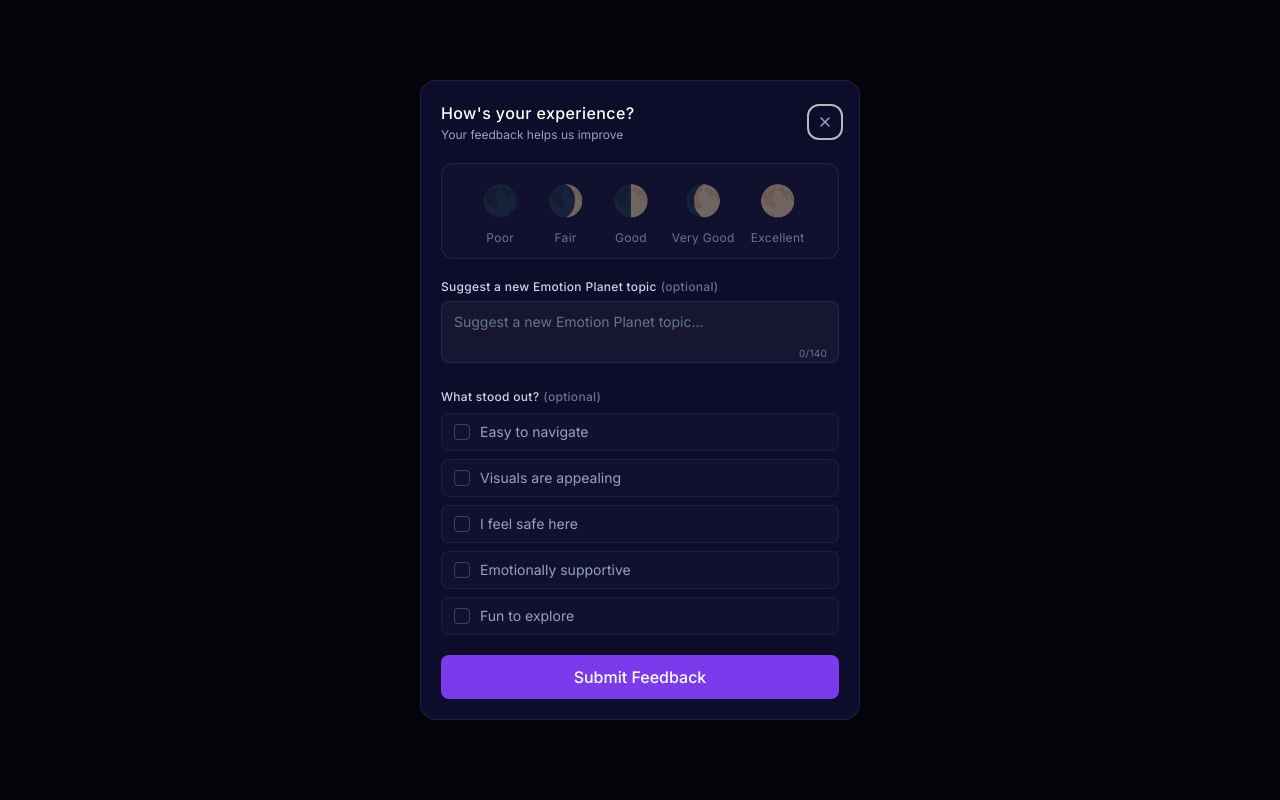
Test: EvaluationModal — Unit Tests (form states) › shows pending review confirmation when API returns moderation_status pending_review
# Select a rating
Click the radio button labelled "🌔". click: [703, 200]
box: [684, 182, 722, 218]
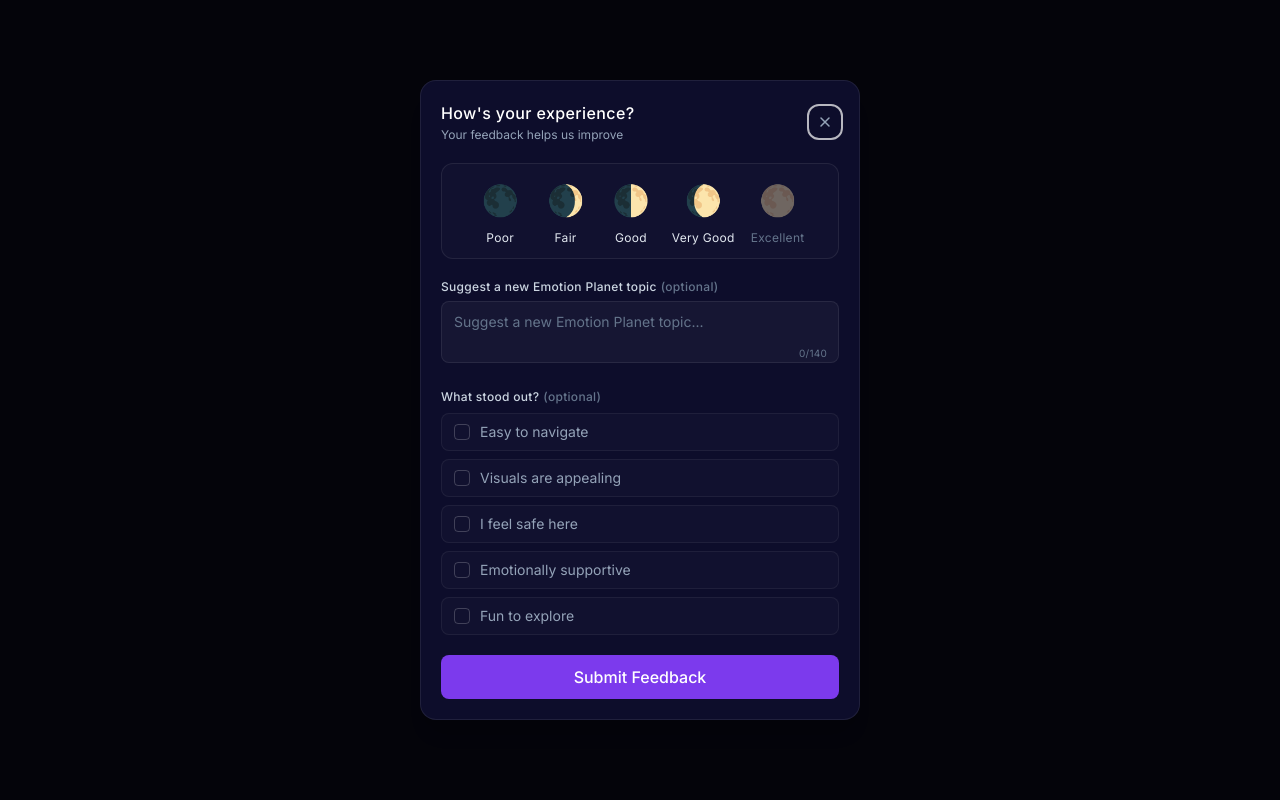
# Add a suggestion
Type "Nostalgia planet" into the text box with placeholder "Suggest a new Emotion Planet topic...". click: [640, 332]
box: [441, 301, 839, 363]
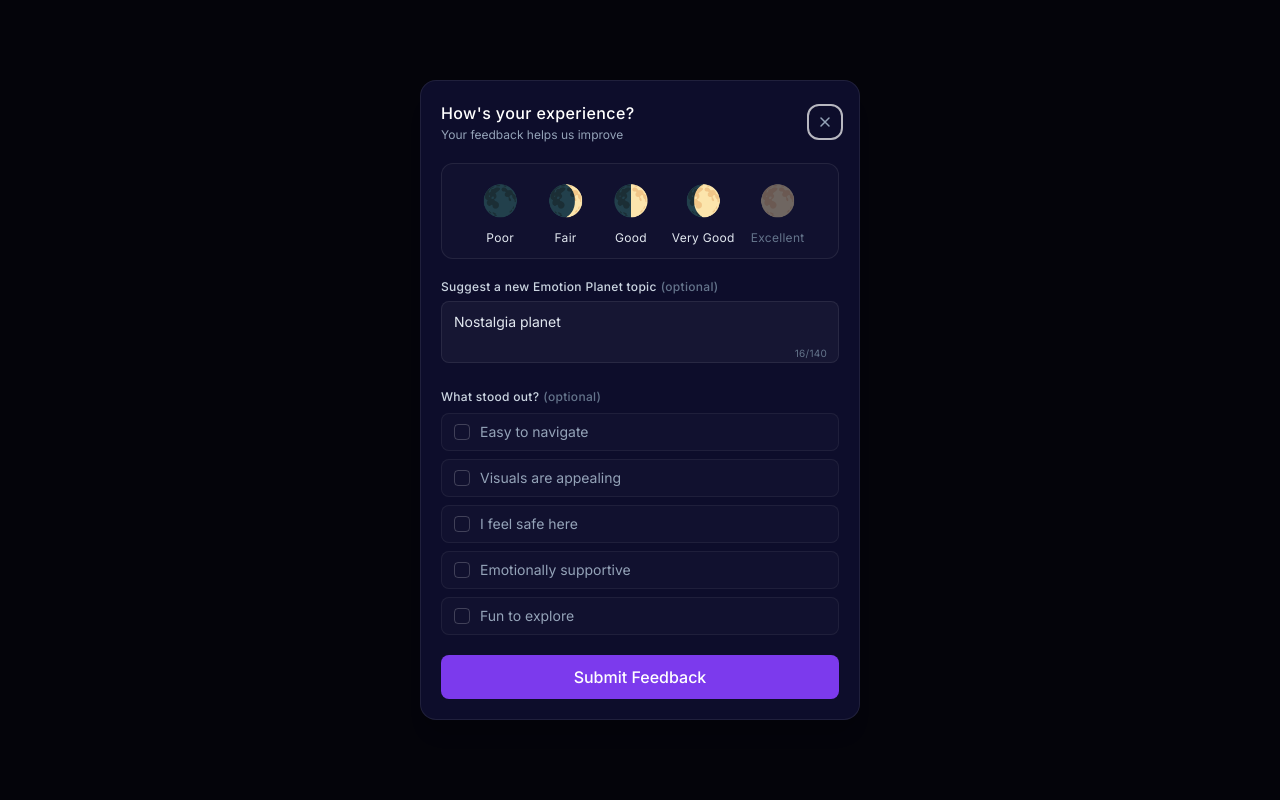
Click the button "Submit Feedback". click: [640, 677]
box: [441, 655, 839, 699]
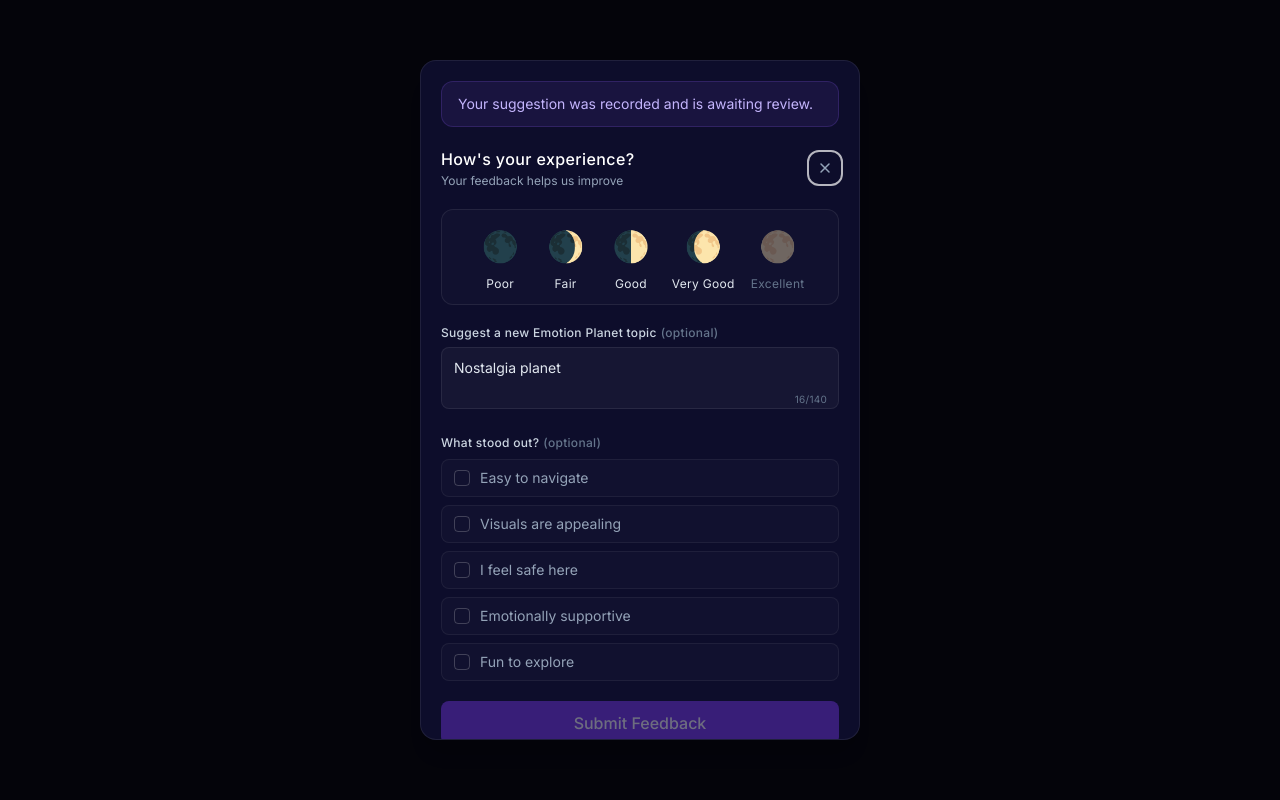
Expected: the text "Your suggestion was recorded and is awaiting review." is shown, [441, 81, 839, 127]
